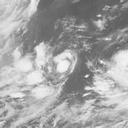cyclone: (47, 49, 76, 83)
